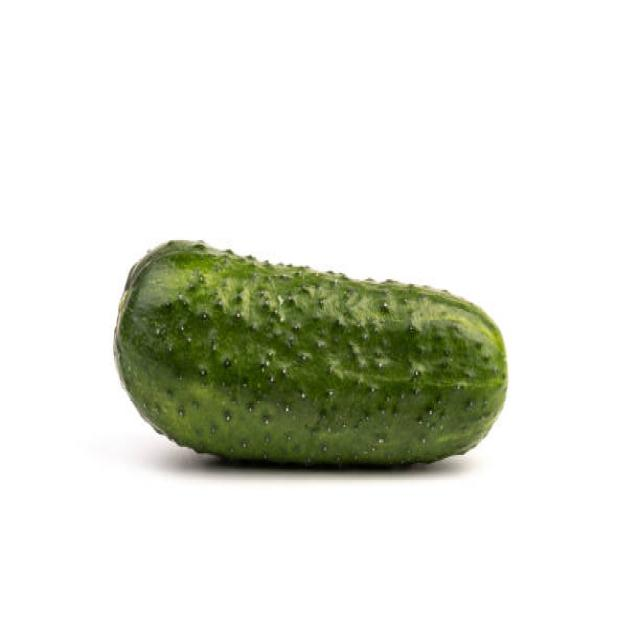cucumber: (112, 240, 506, 468)
